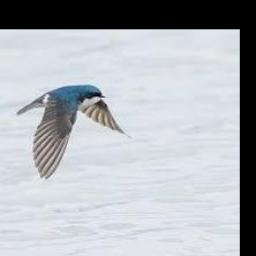Swallow: (15, 84, 129, 178)
